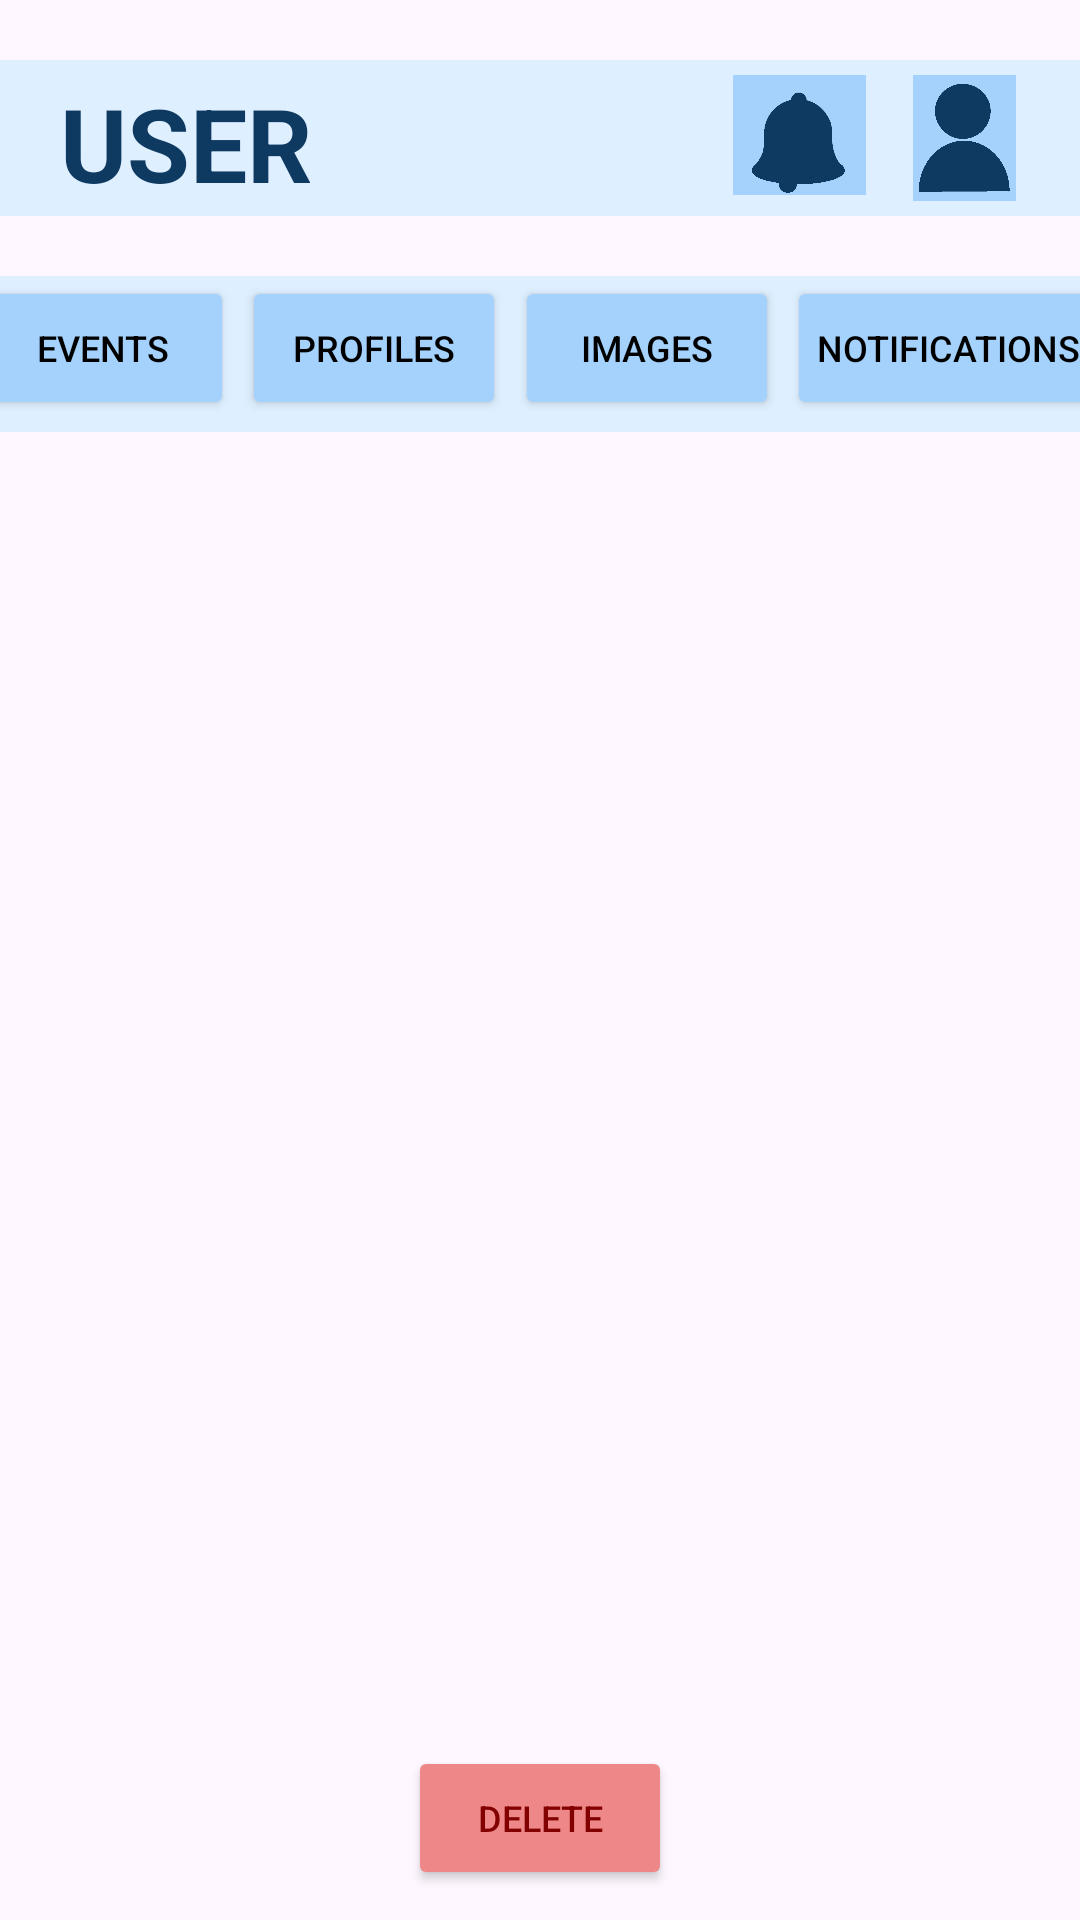

Icons on this 1080x1920 Android screen, each with its box as [x1, y1, x2, y2]:
notification icon: [733, 75, 866, 195]
